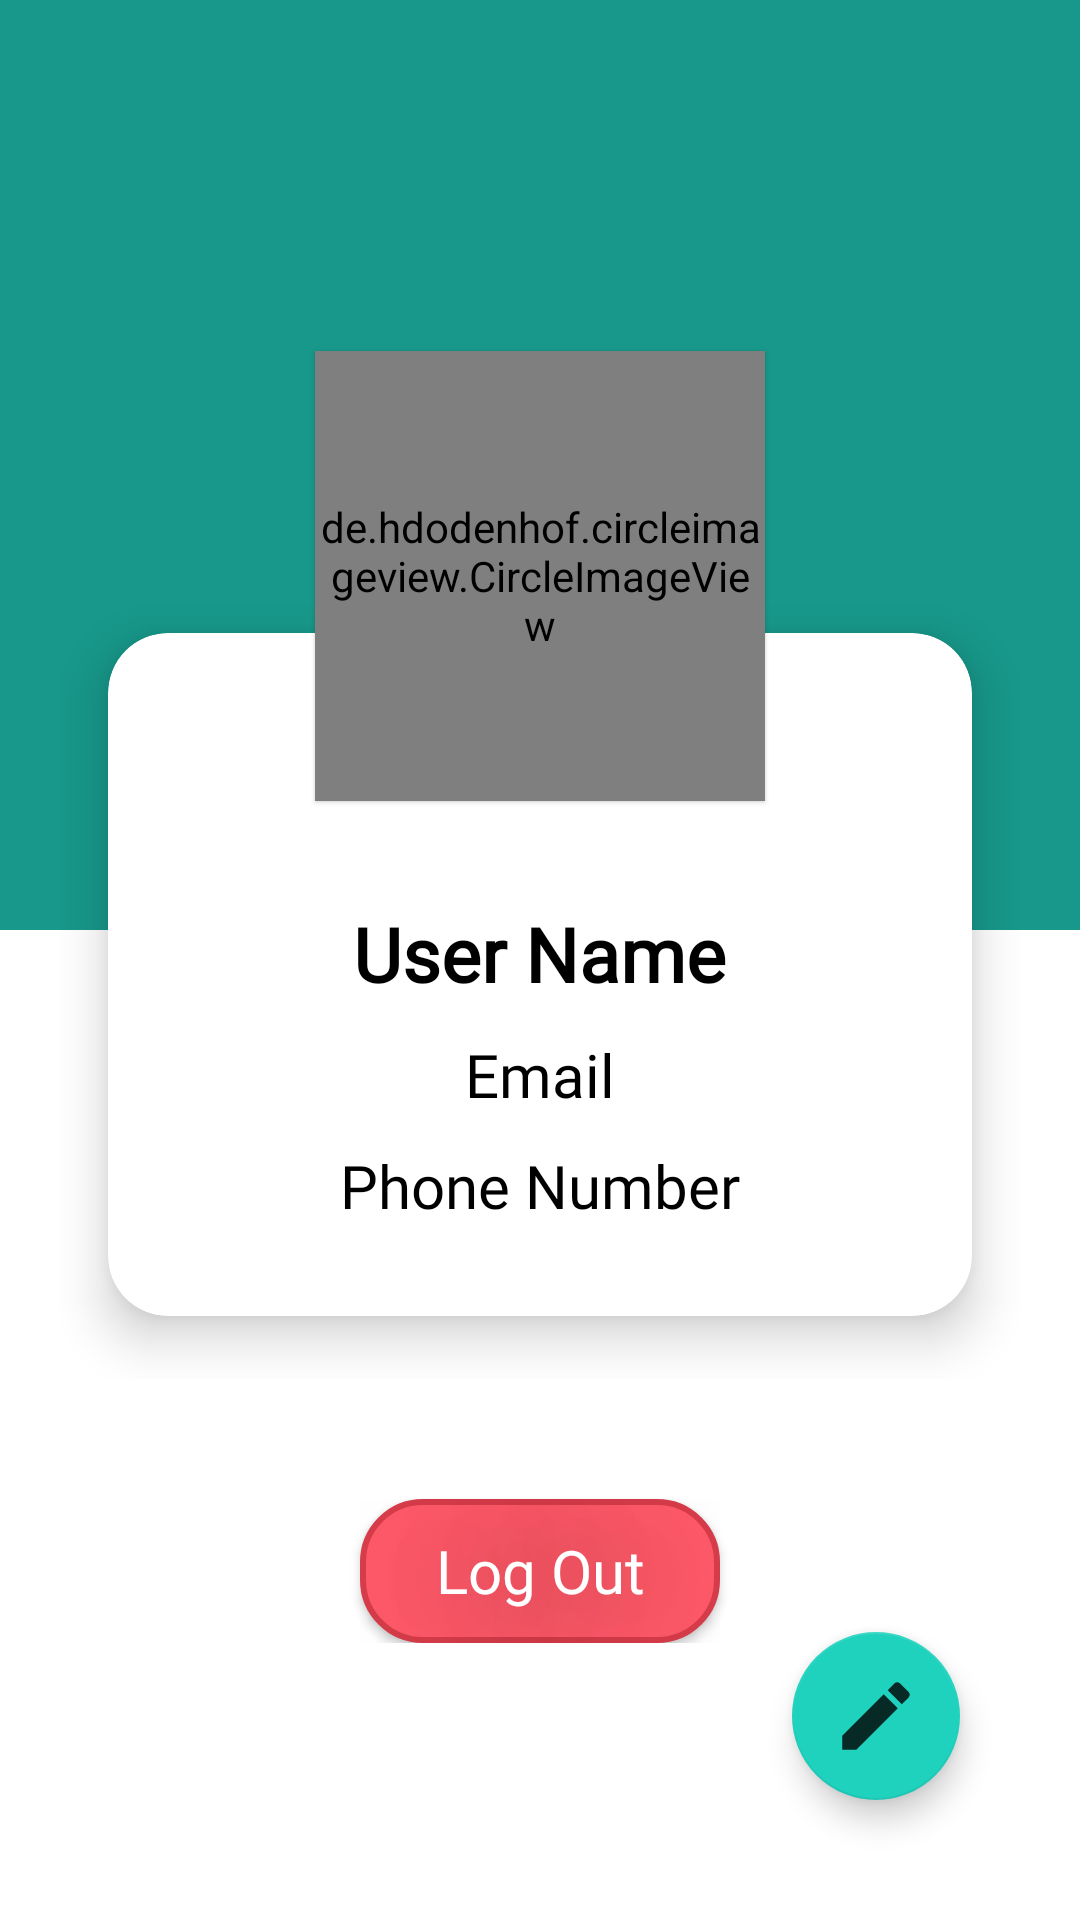

Point at icon controls on the screen. Image size 1080×1920, points as (x,y).
edit: (876,1716)
